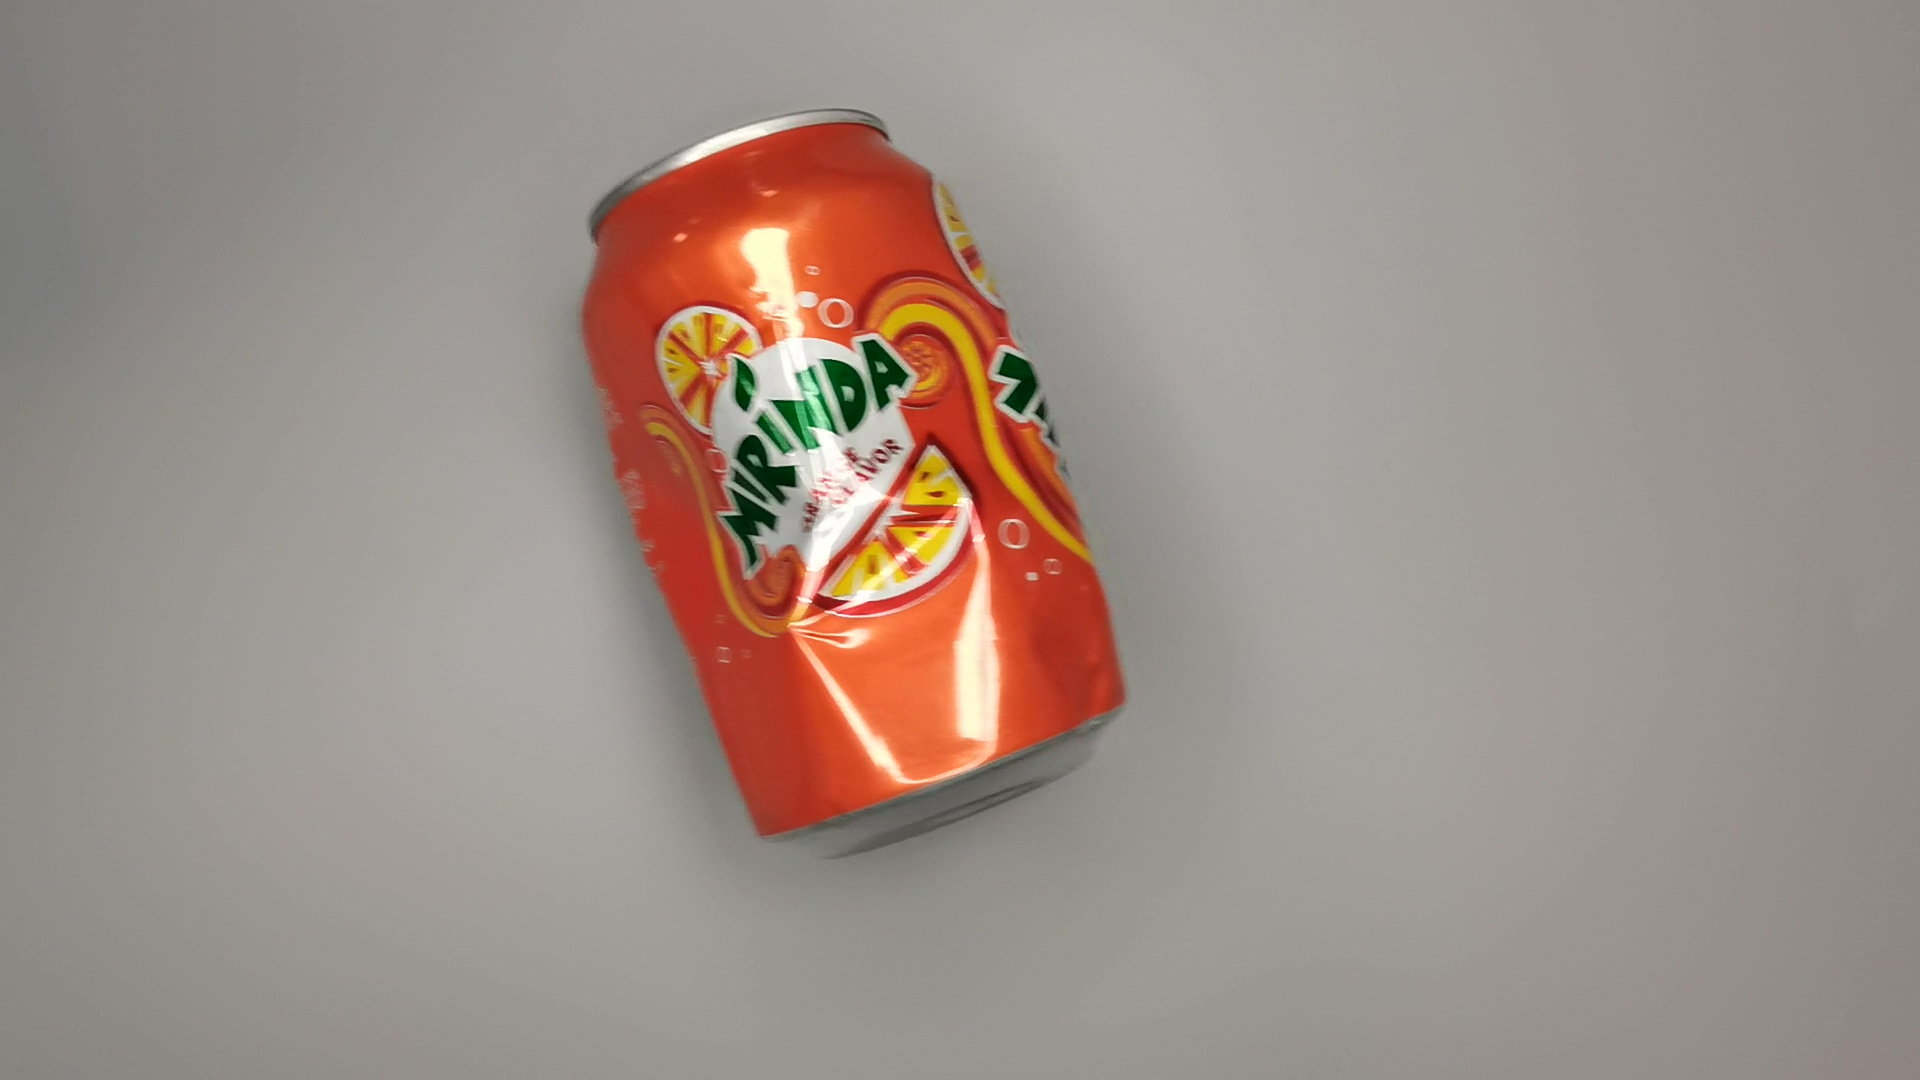can: (578, 98, 1141, 868)
